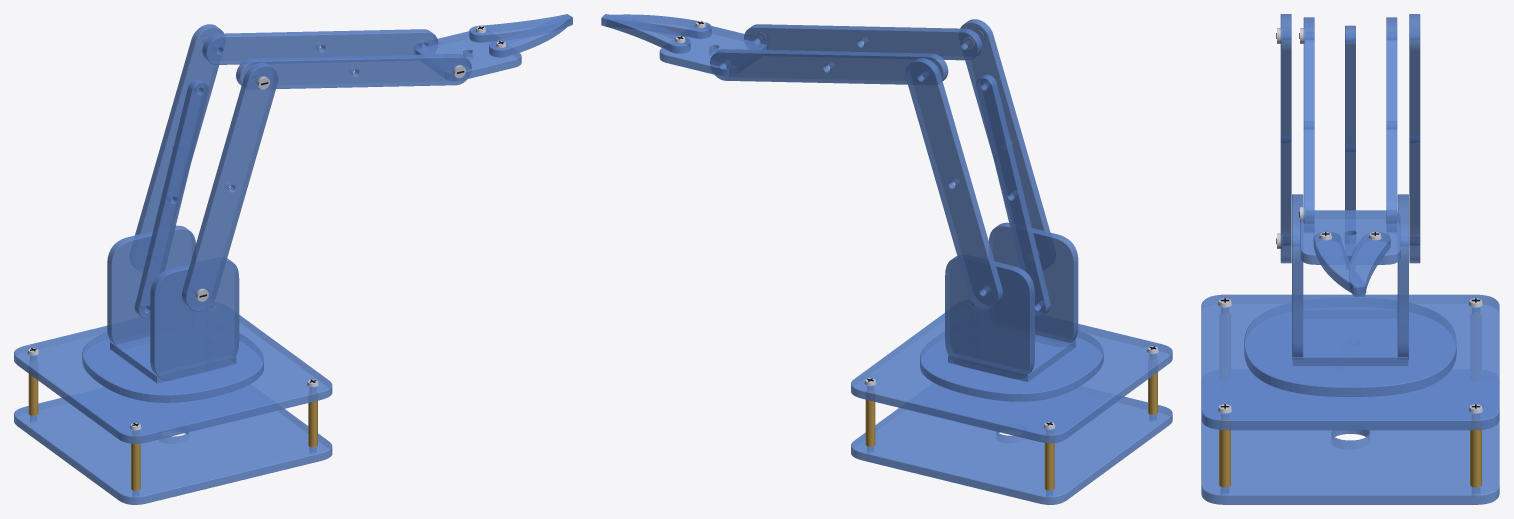
The model's file is estructura-brazo-4dof.glb.
3 views of the same model, side by side, from view 1: azimuth 30°, elevation 25°; view 2: azimuth 150°, elevation 25°; view 3: azimuth 270°, elevation 25° (orthographic). The views are drawn at different scales.
Size of the model in its own units: 217 by 155 by 90.37.
Materials: 2 (2 with a texture image).
